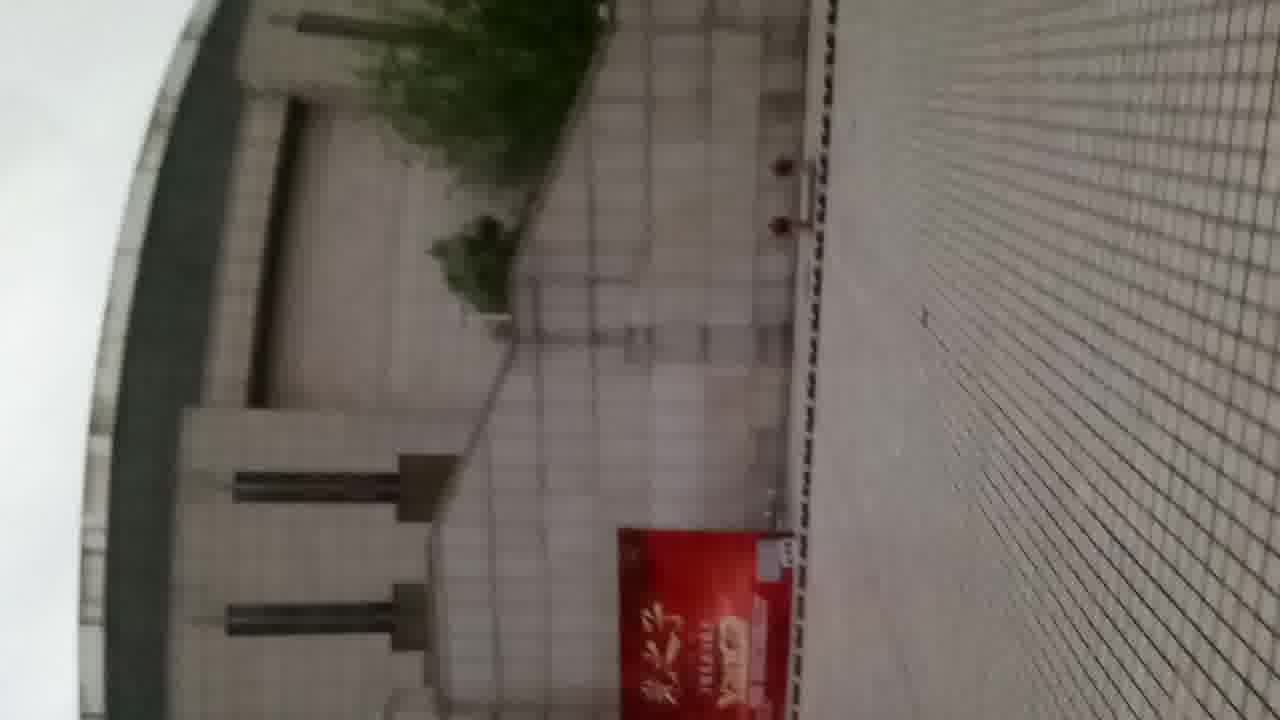zhongtiww: (74, 6, 809, 720)
